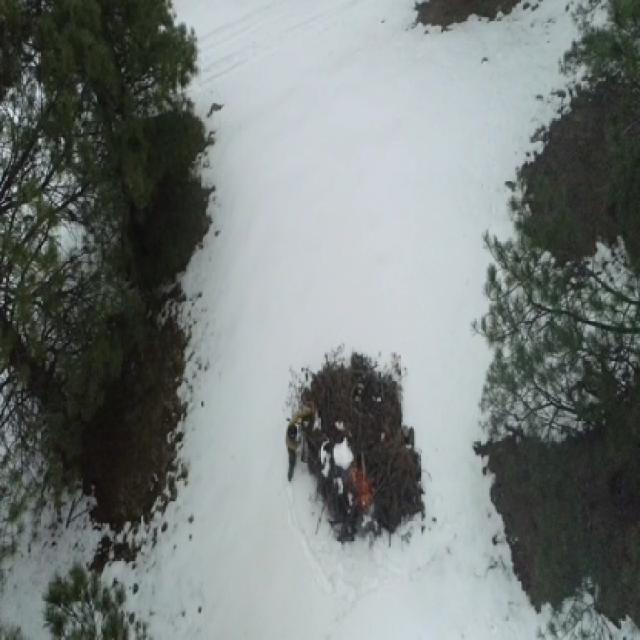Fire: (351, 467, 371, 508)
